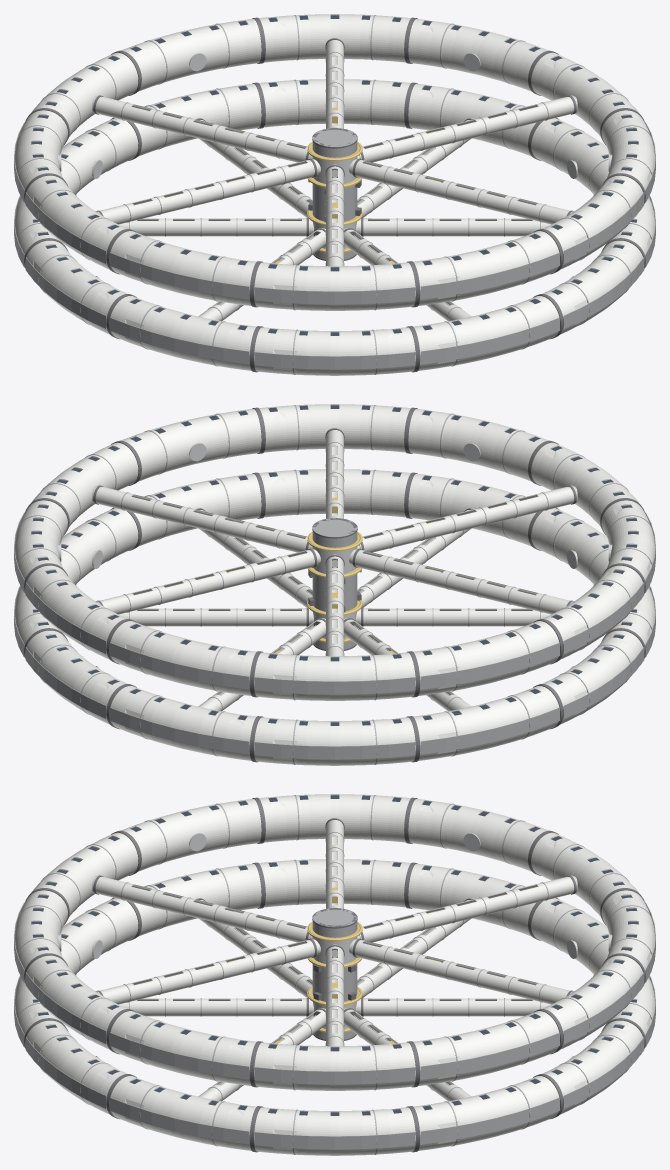
File: counter_rotating_assembly.glb
3 renders of one model, top to bottom at view 1: azimuth 30°, elevation 25°; view 2: azimuth 150°, elevation 25°; view 3: azimuth 270°, elevation 25°, orthographic.
Visible parts, largest first — view 1: A_segment_3_segment_hull, B_segment_2_segment_hull, A_segment_2_segment_hull, A_segment_4_segment_hull, A_segment_9_segment_hull, B_segment_8_segment_hull, B_segment_7_segment_hull, A_segment_10_segment_hull, B_segment_9_segment_hull, A_segment_8_segment_hull, B_segment_3_segment_hull, B_segment_1_segment_hull (+37 smaller); view 2: A_segment_11_segment_hull, B_segment_10_segment_hull, A_segment_10_segment_hull, A_segment_12_segment_hull, A_segment_5_segment_hull, B_segment_4_segment_hull, B_segment_3_segment_hull, A_segment_6_segment_hull, B_segment_5_segment_hull, A_segment_4_segment_hull, B_segment_11_segment_hull, B_segment_9_segment_hull (+37 smaller); view 3: A_segment_7_segment_hull, B_segment_6_segment_hull, A_segment_6_segment_hull, A_segment_8_segment_hull, A_segment_1_segment_hull, B_segment_12_segment_hull, B_segment_11_segment_hull, A_segment_2_segment_hull, B_segment_1_segment_hull, A_segment_12_segment_hull, B_segment_7_segment_hull, B_segment_5_segment_hull (+37 smaller).
Part boxes in pixels (x1,y1,x2,y2): A_segment_3_segment_hull: [259, 14, 410, 62]; B_segment_2_segment_hull: [259, 79, 410, 127]; A_segment_2_segment_hull: [408, 19, 548, 91]; A_segment_4_segment_hull: [121, 19, 261, 91]; A_segment_9_segment_hull: [254, 262, 415, 310]; B_segment_8_segment_hull: [254, 327, 415, 375]; B_segment_7_segment_hull: [110, 296, 256, 370]; A_segment_10_segment_hull: [413, 231, 559, 305]; B_segment_9_segment_hull: [413, 296, 559, 370]; A_segment_8_segment_hull: [110, 231, 256, 305]; B_segment_3_segment_hull: [134, 83, 261, 156]; B_segment_1_segment_hull: [408, 83, 535, 156]; A_segment_11_segment_hull: [259, 404, 410, 452]; B_segment_10_segment_hull: [259, 469, 410, 517]; A_segment_10_segment_hull: [408, 409, 548, 481]; A_segment_12_segment_hull: [121, 409, 261, 481]; A_segment_5_segment_hull: [254, 652, 415, 700]; B_segment_4_segment_hull: [254, 717, 415, 765]; B_segment_3_segment_hull: [110, 686, 256, 760]; A_segment_6_segment_hull: [413, 621, 559, 695]; B_segment_5_segment_hull: [413, 686, 559, 760]; A_segment_4_segment_hull: [110, 621, 256, 695]; B_segment_11_segment_hull: [134, 473, 261, 546]; B_segment_9_segment_hull: [408, 473, 535, 546]; A_segment_7_segment_hull: [259, 794, 410, 842]; B_segment_6_segment_hull: [259, 859, 410, 907]; A_segment_6_segment_hull: [408, 799, 548, 871]; A_segment_8_segment_hull: [121, 799, 261, 871]; A_segment_1_segment_hull: [254, 1042, 415, 1090]; B_segment_12_segment_hull: [254, 1107, 415, 1155]; B_segment_11_segment_hull: [110, 1076, 256, 1150]; A_segment_2_segment_hull: [413, 1011, 559, 1085]; B_segment_1_segment_hull: [413, 1076, 559, 1150]; A_segment_12_segment_hull: [110, 1011, 256, 1085]; B_segment_7_segment_hull: [134, 863, 261, 936]; B_segment_5_segment_hull: [408, 863, 535, 936].
Bounding box in the file's own units: 53.81 × 10.6 × 53.81.
